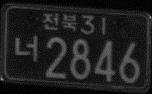1: (100, 16, 107, 36)
2: (45, 36, 67, 79)
3: (79, 13, 94, 35)
4: (93, 40, 116, 83)
6: (117, 41, 140, 84)
8: (69, 38, 90, 79)
너: (13, 34, 39, 62)
전북_O: (42, 12, 77, 31)
